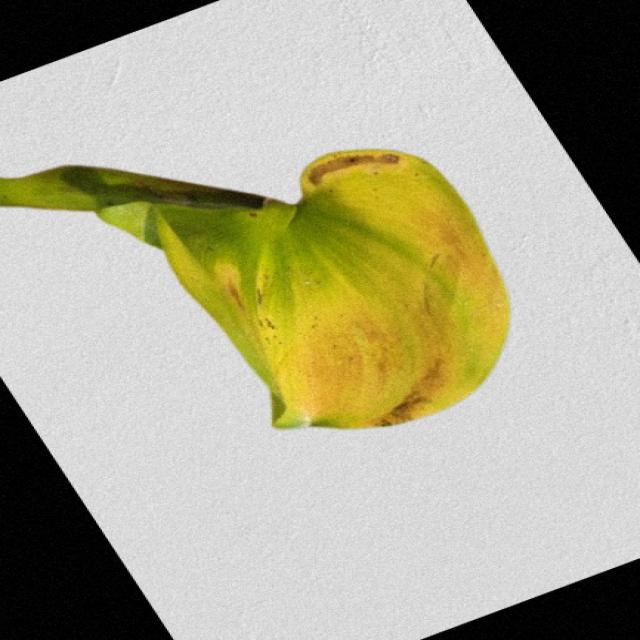daun berpenyakit kuning: (2, 149, 510, 429)
